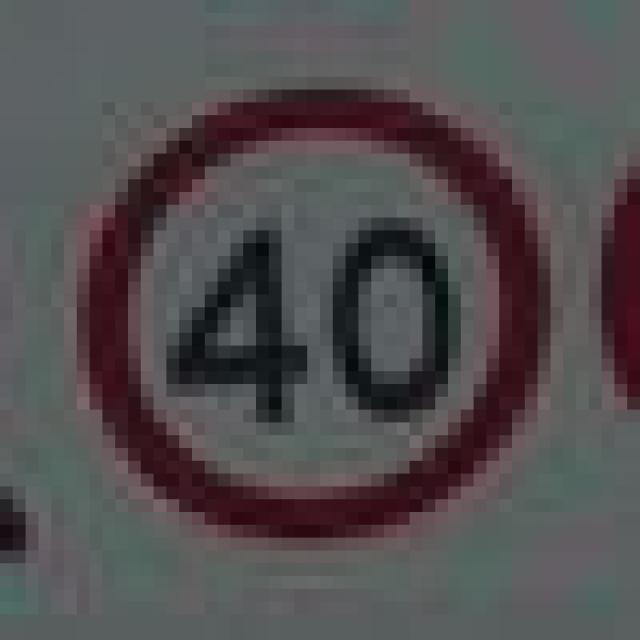SPEED_LIMIT_40: (64, 64, 525, 538)
